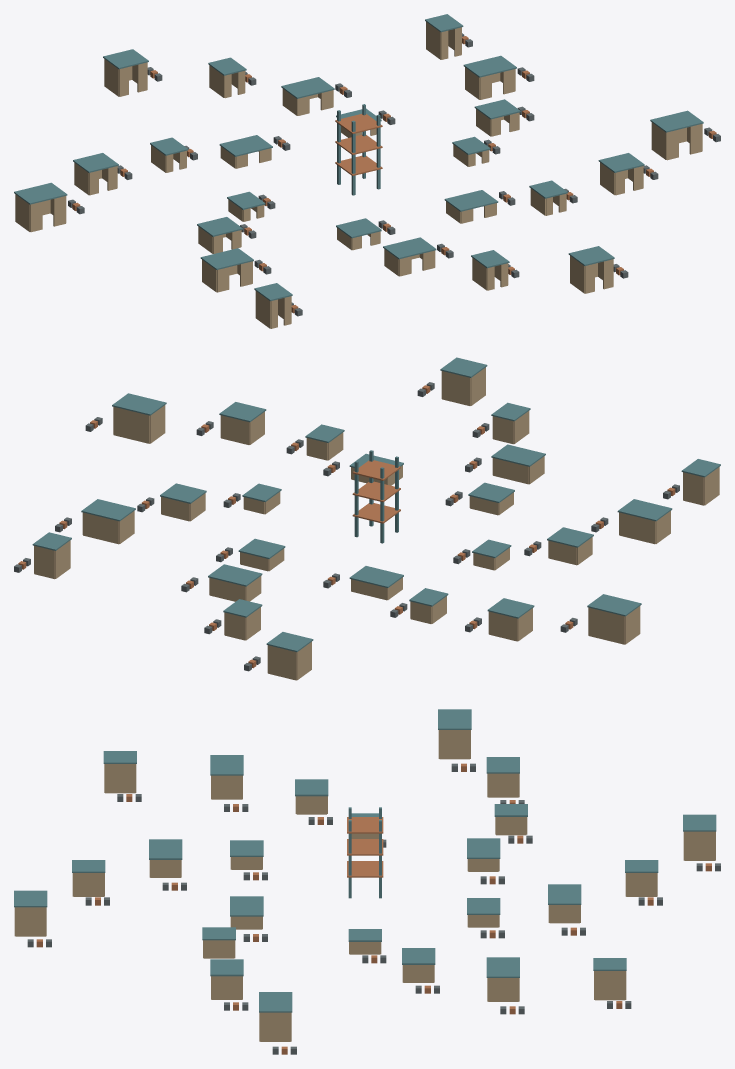
Rendered from outpost.glb.
The picture shows the model from 3 angles, top to bottom: view 1: azimuth 30°, elevation 25°; view 2: azimuth 150°, elevation 25°; view 3: azimuth 270°, elevation 25°; orthographic projection. The views are drawn at different scales.
Parts seen in each view (by area): view 1: DoorSide_0, Relay_pylon, Cover_0_1, Cover_0_0; view 2: DoorSide_0, Relay_pylon, Cover_0_1, Cover_0_0; view 3: DoorSide_0, Relay_pylon, Cover_0_1, Cover_0_0.
Part boxes in pixels (bbox=[...]): DoorSide_0: bbox=[15, 22, 702, 328]; Relay_pylon: bbox=[14, 14, 703, 301]; Cover_0_1: bbox=[72, 36, 716, 313]; Cover_0_0: bbox=[68, 33, 720, 316]; DoorSide_0: bbox=[34, 367, 719, 680]; Relay_pylon: bbox=[32, 357, 720, 652]; Cover_0_1: bbox=[18, 385, 675, 668]; Cover_0_0: bbox=[14, 382, 679, 671]; DoorSide_0: bbox=[14, 730, 715, 1041]; Relay_pylon: bbox=[14, 709, 716, 1012]; Cover_0_1: bbox=[36, 763, 711, 1054]; Cover_0_0: bbox=[27, 763, 720, 1054].
Size of the model in its own units: 245 by 28 by 233.
